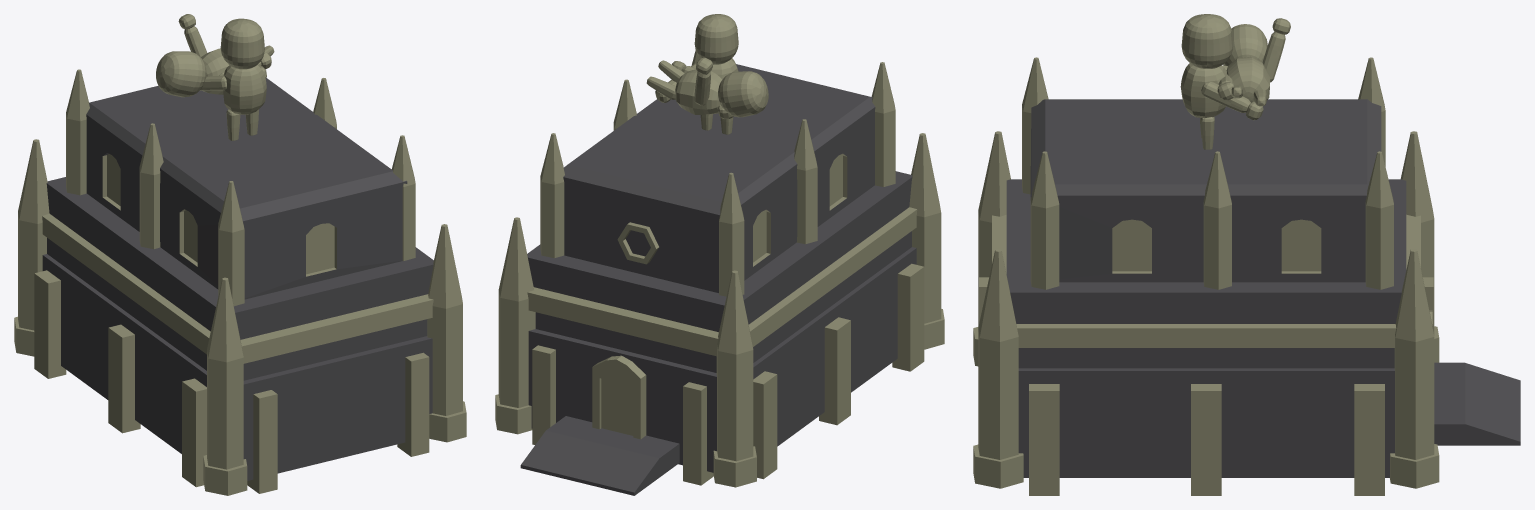
The model's file is hero_grave.glb.
3 renders of one model, left to right at view 1: azimuth 30°, elevation 25°; view 2: azimuth 150°, elevation 25°; view 3: azimuth 270°, elevation 25°, orthographic. The views are drawn at different scales.
Visible parts, largest first — view 1: Stranded Graveyard.005; view 2: Stranded Graveyard.005; view 3: Stranded Graveyard.005.
Boxes of the visible parts, x1=… form: Stranded Graveyard.005: x1=14, y1=14, x2=466, y2=495; Stranded Graveyard.005: x1=495, y1=14, x2=944, y2=495; Stranded Graveyard.005: x1=973, y1=14, x2=1520, y2=495.
Bounding box in the file's own units: 0.3709 × 0.509 × 0.6116.
